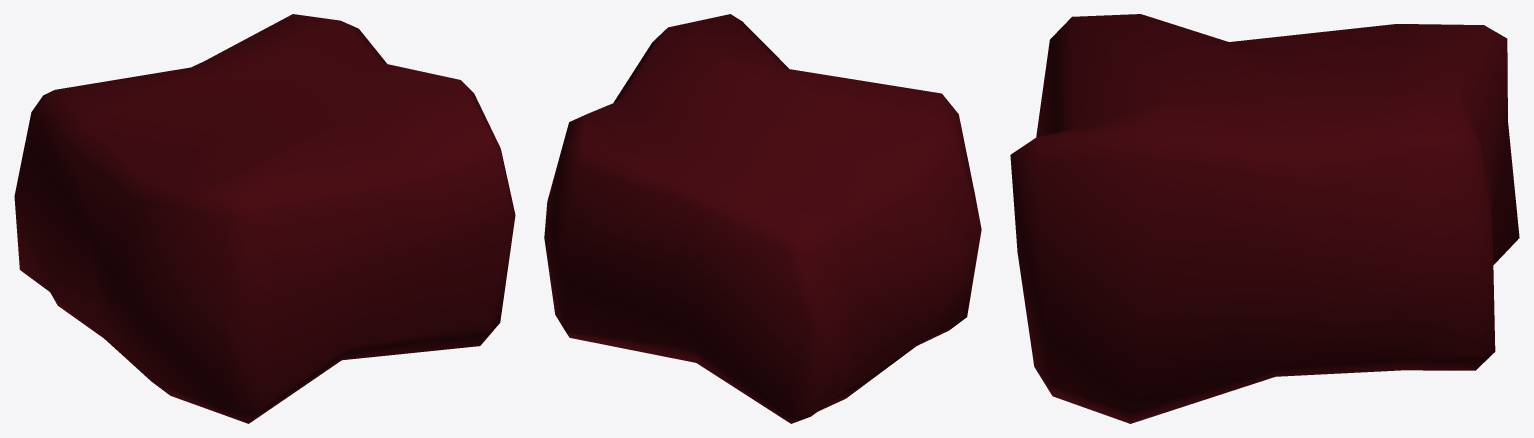
Rendered from Cryonite.fbx.
3 renders of one model, left to right at view 1: azimuth 30°, elevation 25°; view 2: azimuth 150°, elevation 25°; view 3: azimuth 270°, elevation 25°, orthographic. The views are drawn at different scales.
Parts seen in each view (by area): view 1: Cryonite_LOD0; view 2: Cryonite_LOD0; view 3: Cryonite_LOD0.
Part boxes in pixels (box(x1,y1,x2,y2)): Cryonite_LOD0: box(14, 14, 515, 423); Cryonite_LOD0: box(544, 14, 981, 423); Cryonite_LOD0: box(1010, 14, 1519, 423).
Size of what is drawn, in the model's own units: 0.2698 by 0.1822 by 0.2757.
